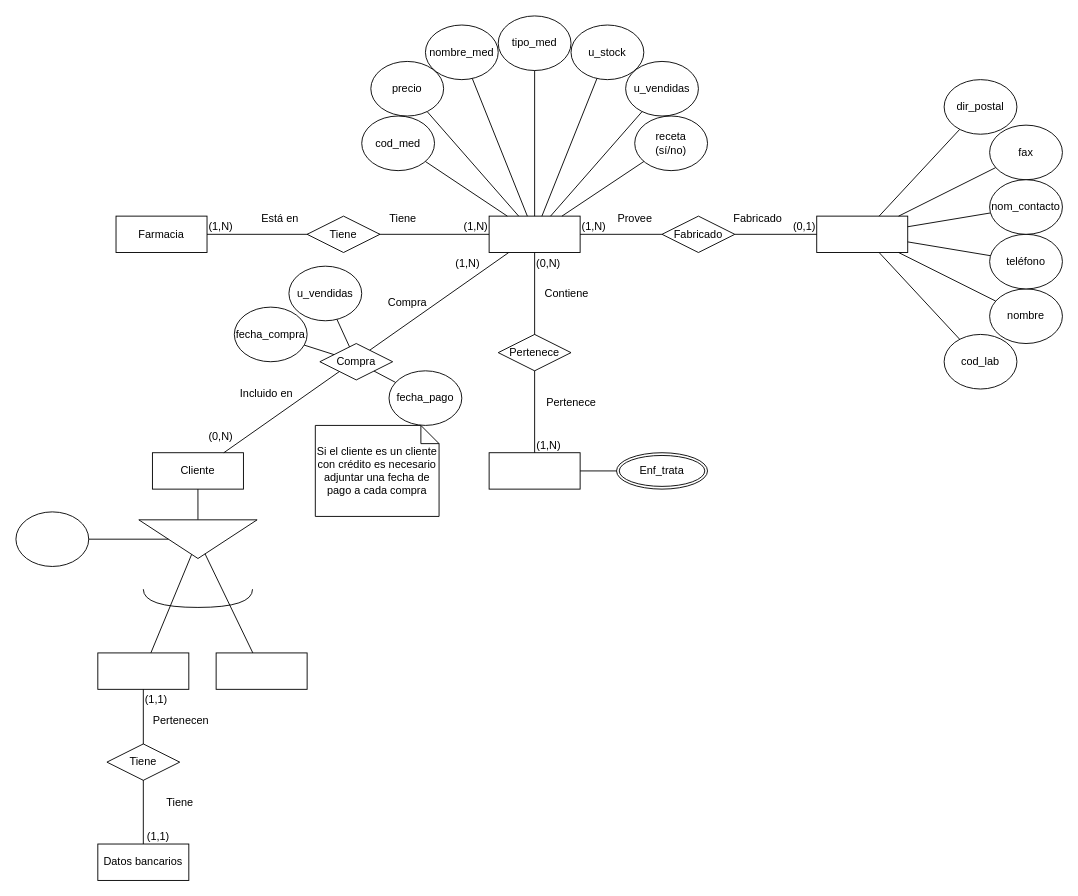
This 1078x896 diagram has some shape labels left out. The box of each missing label's shape, as (x1, y1, x2, y2) in pixels:
Cliente con cŕedito: (97, 652, 189, 689)
Cliente sin cŕedito: (215, 652, 307, 689)
crédito (sí/no): (15, 511, 89, 566)
Familia: (488, 452, 580, 489)
Laboratorio: (816, 215, 908, 253)
Medicamento: (488, 215, 580, 253)
